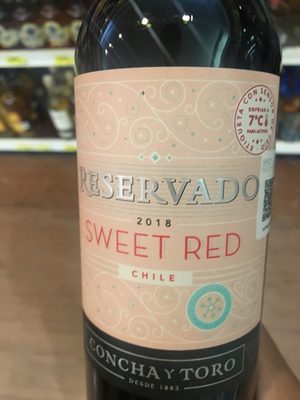reservado sweet red: (57, 18, 288, 398)
